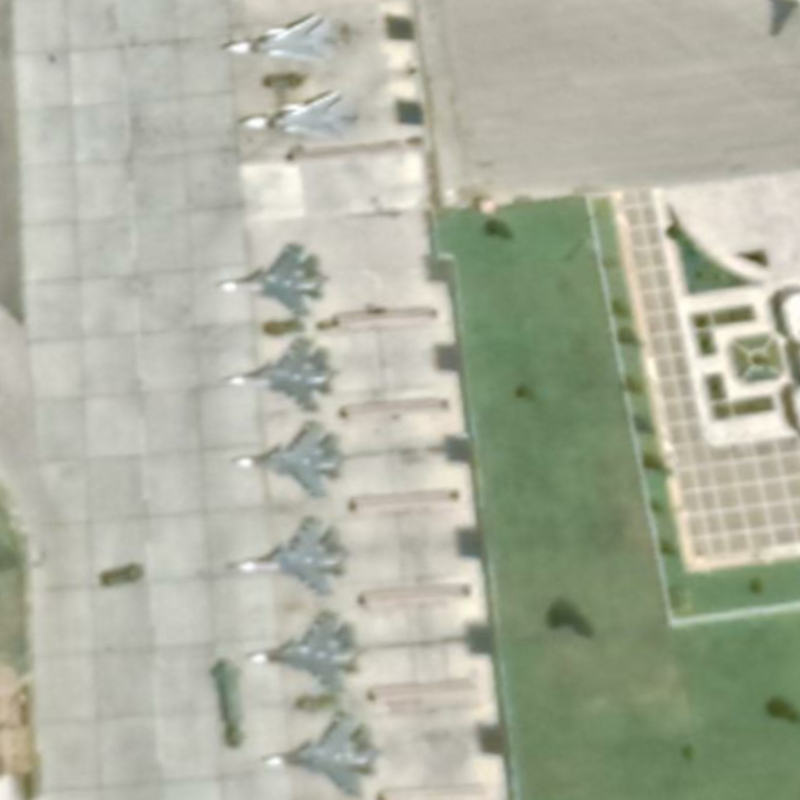A19: (239, 606, 366, 699), (225, 511, 353, 600), (260, 707, 380, 800), (219, 329, 337, 416), (228, 419, 346, 504), (215, 239, 329, 323)
A20: (219, 8, 345, 72), (232, 85, 363, 145)
